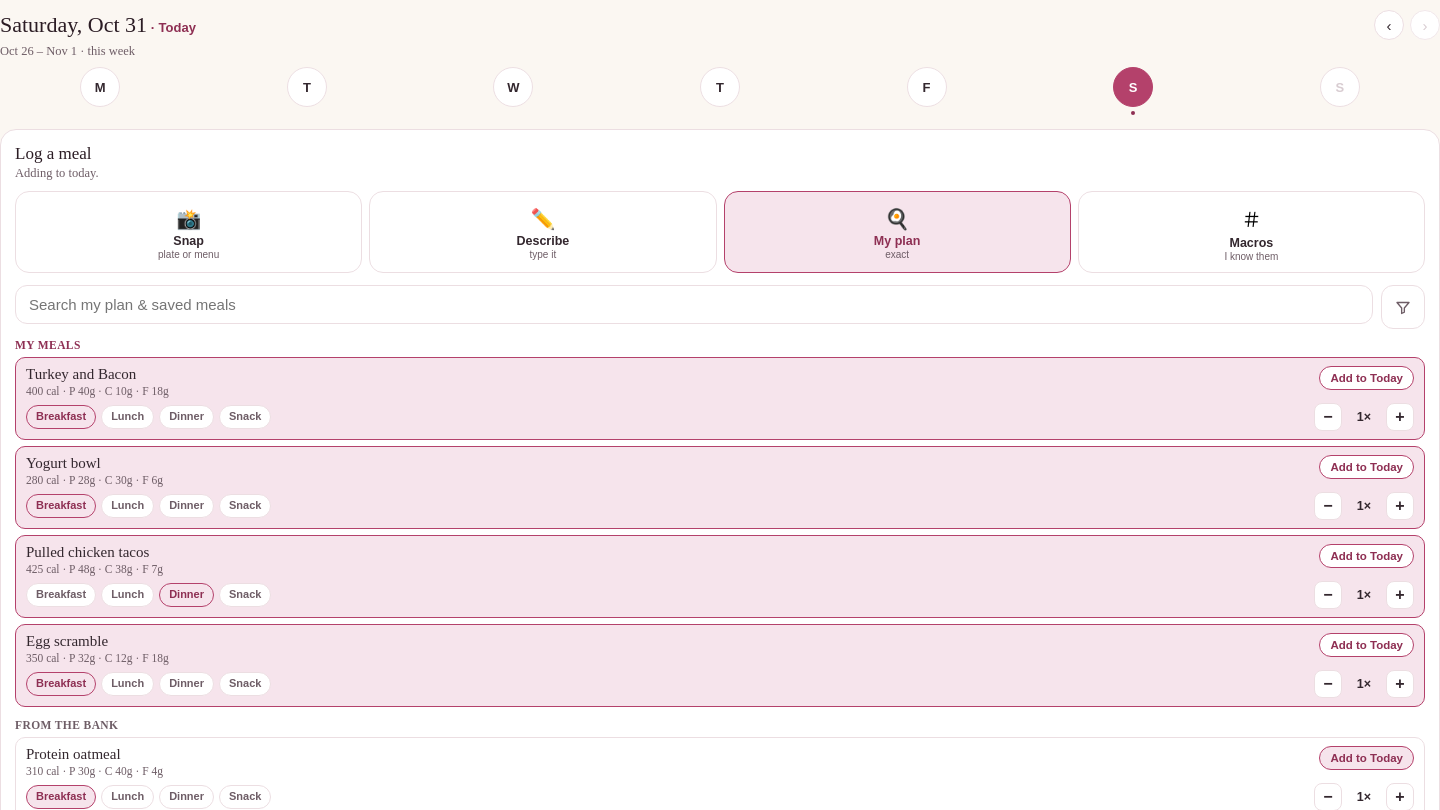
Test: MealLogCard My plan list › shows more than two saved meals and a slot filter
The width and height of the screenshot is (1440, 810).
Expected: the text "Turkey and Bacon" is shown, [26,366,136,382]
Expected: the text "Yogurt bowl" is shown, [26,455,101,471]
Click the button named "Filter meals".
click(1403, 307)  # box [1381,285,1425,329]
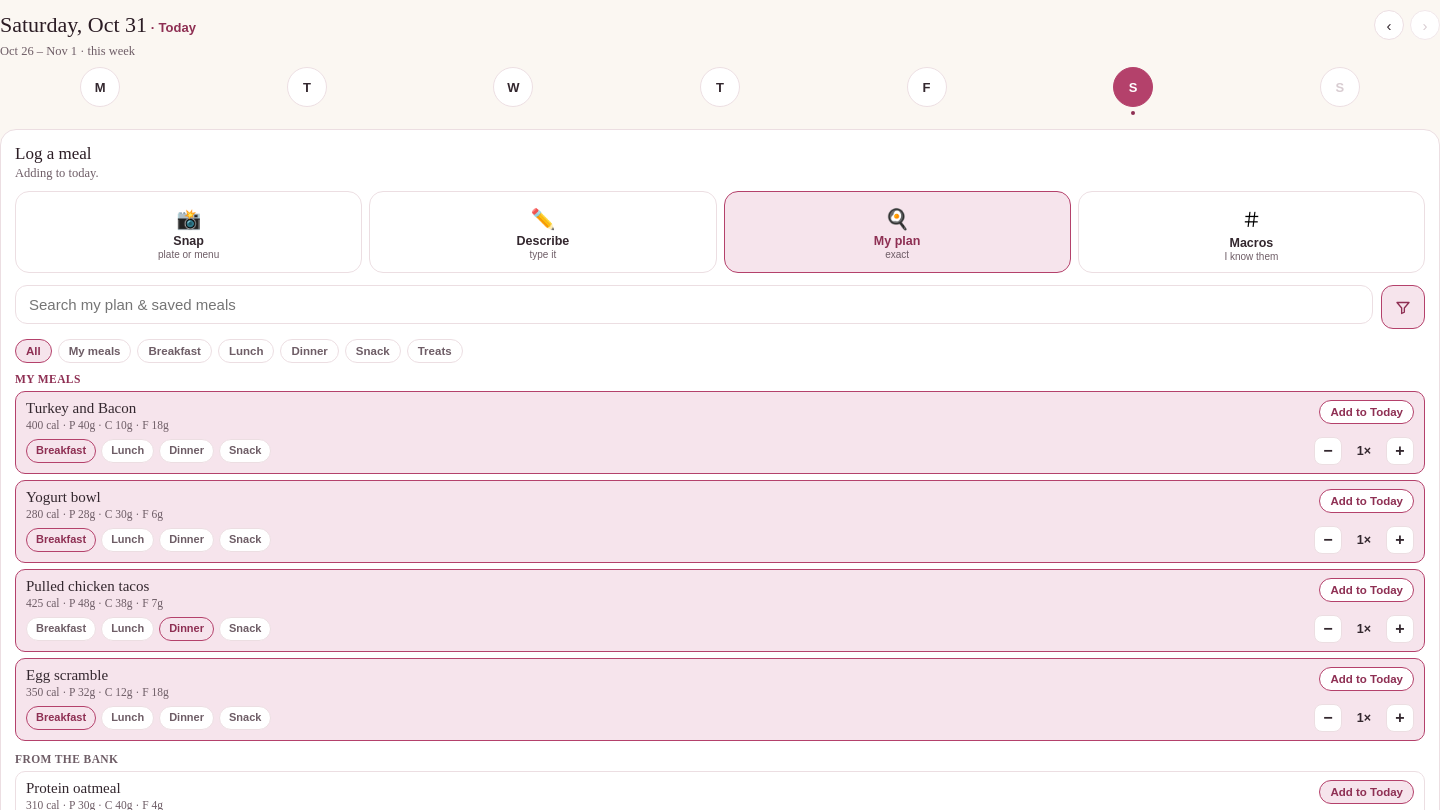
Click the option "Dinner".
click(310, 351)  # box [280,339,339,363]
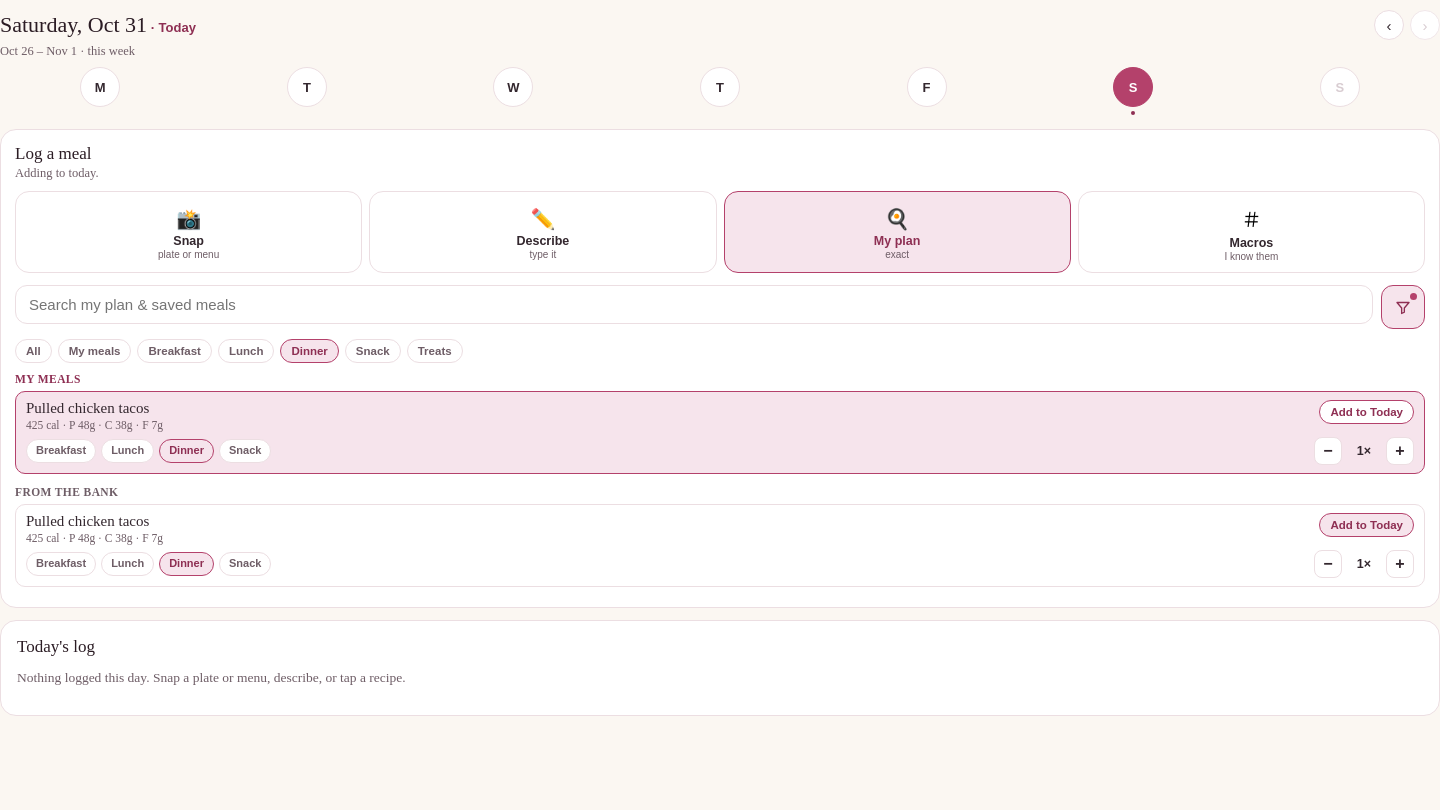
Expected: the text "Protein oatmeal" is gone
Expected: the text "Turkey and Bacon" is gone
Expected: the text "Yogurt bowl" is gone
